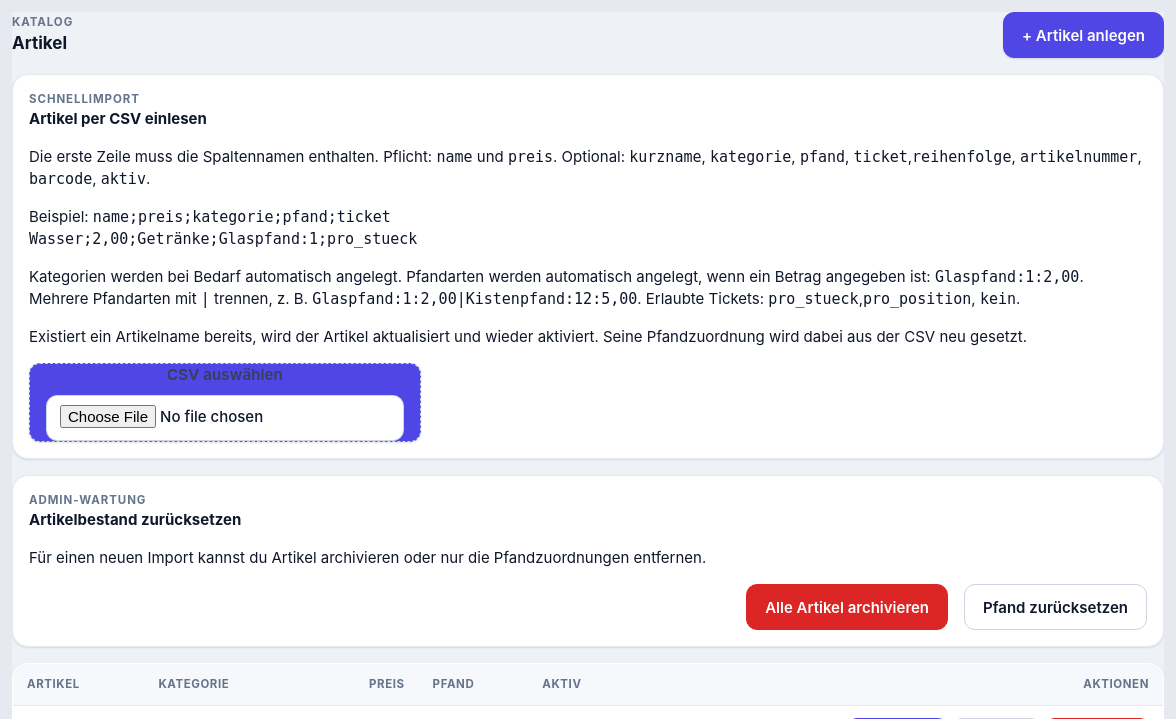
it: Artikel Component › should reset deposit assignments via maintenance action
This screenshot has width=1176, height=719.
Click the button "Pfand zurücksetzen": (1056, 607) [964,584,1147,630]
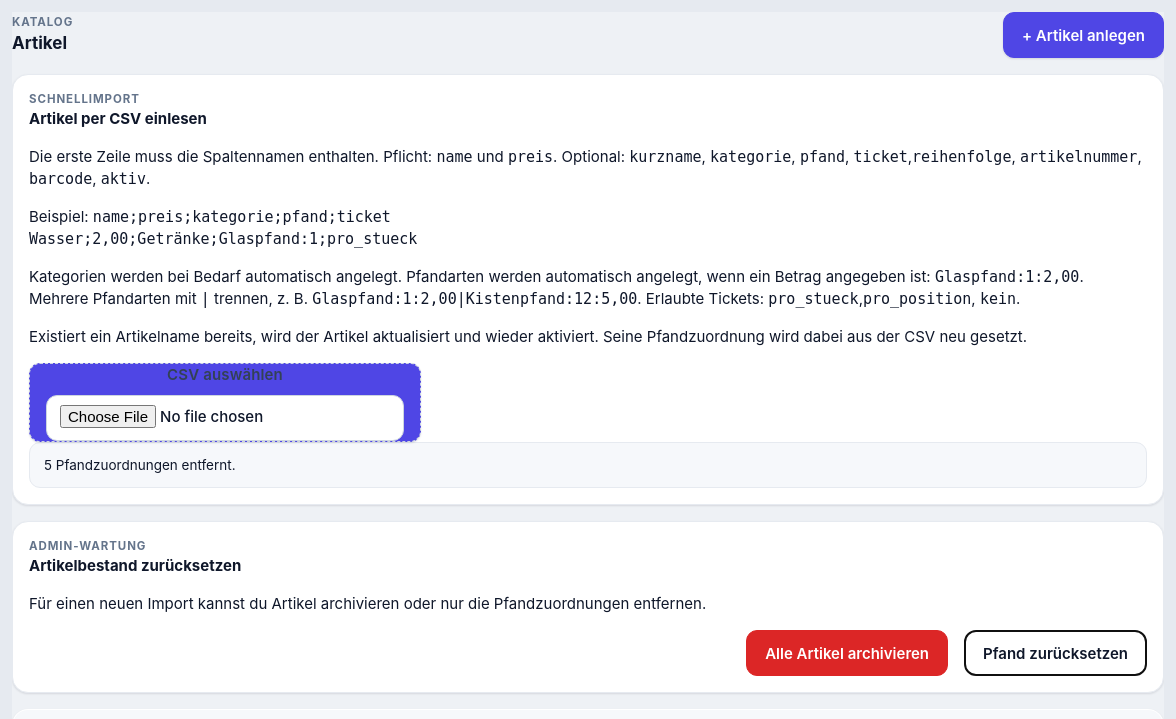
Check: the text "5 Pfandzuordnungen entfernt." is shown, box [29,442,1147,488]
